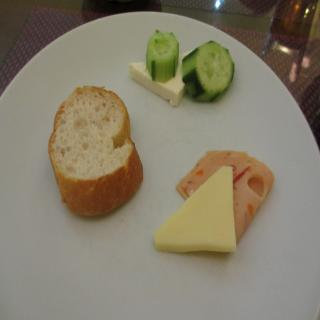Bread: (48, 82, 133, 210)
Cheese: (152, 165, 238, 252)
